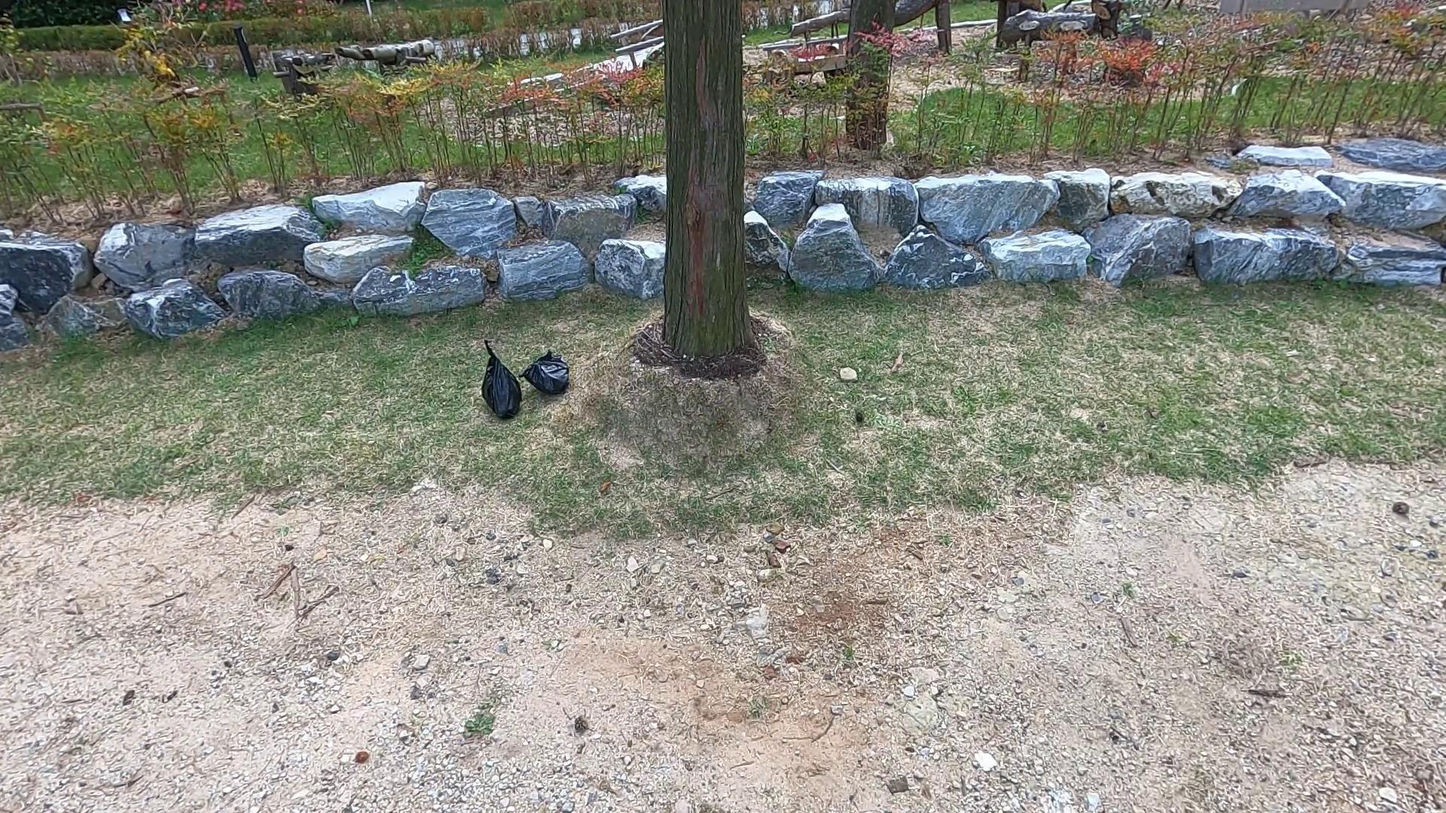trash: (478, 336, 524, 421), (519, 346, 572, 399)
